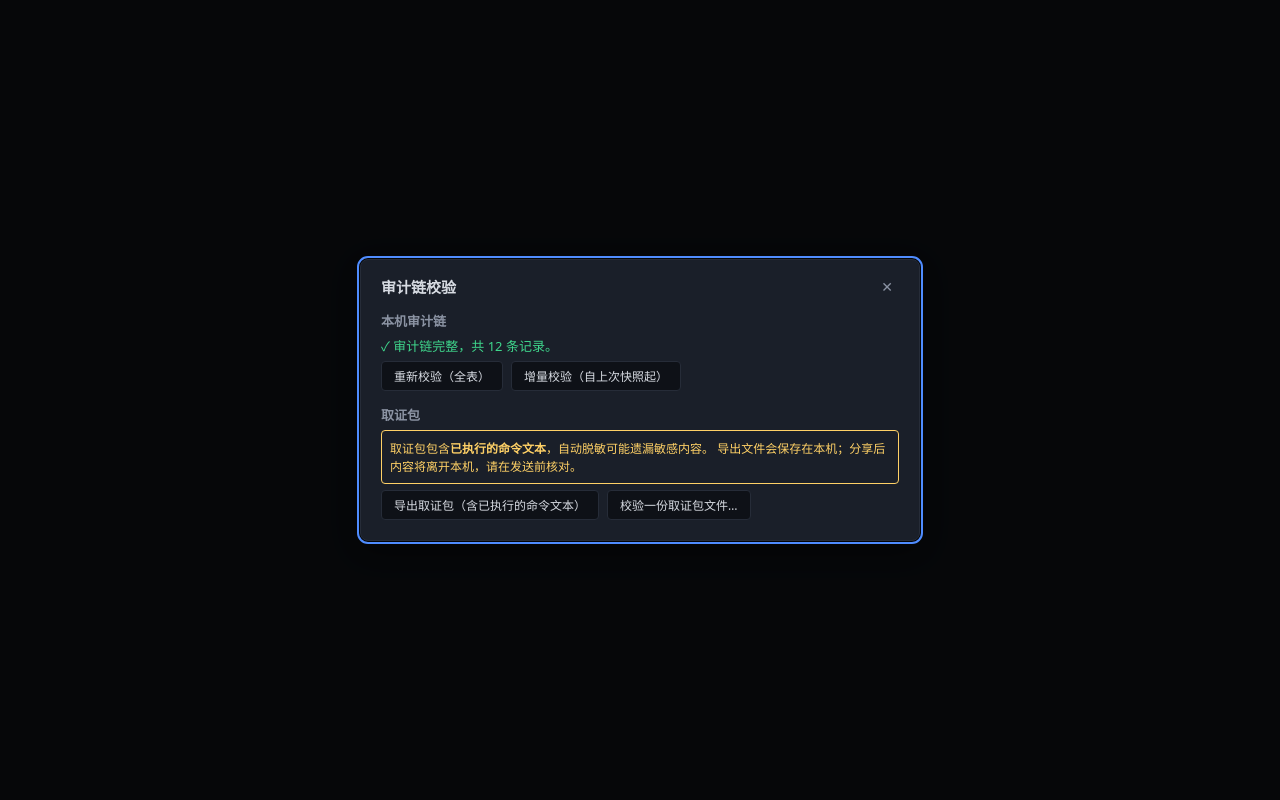
Test case: 增量校验 › 「通过但没查全」显示 ⚠ 而不是 ✓
Click the button with test id "audit-quick": (596,376) [511,361,681,391]
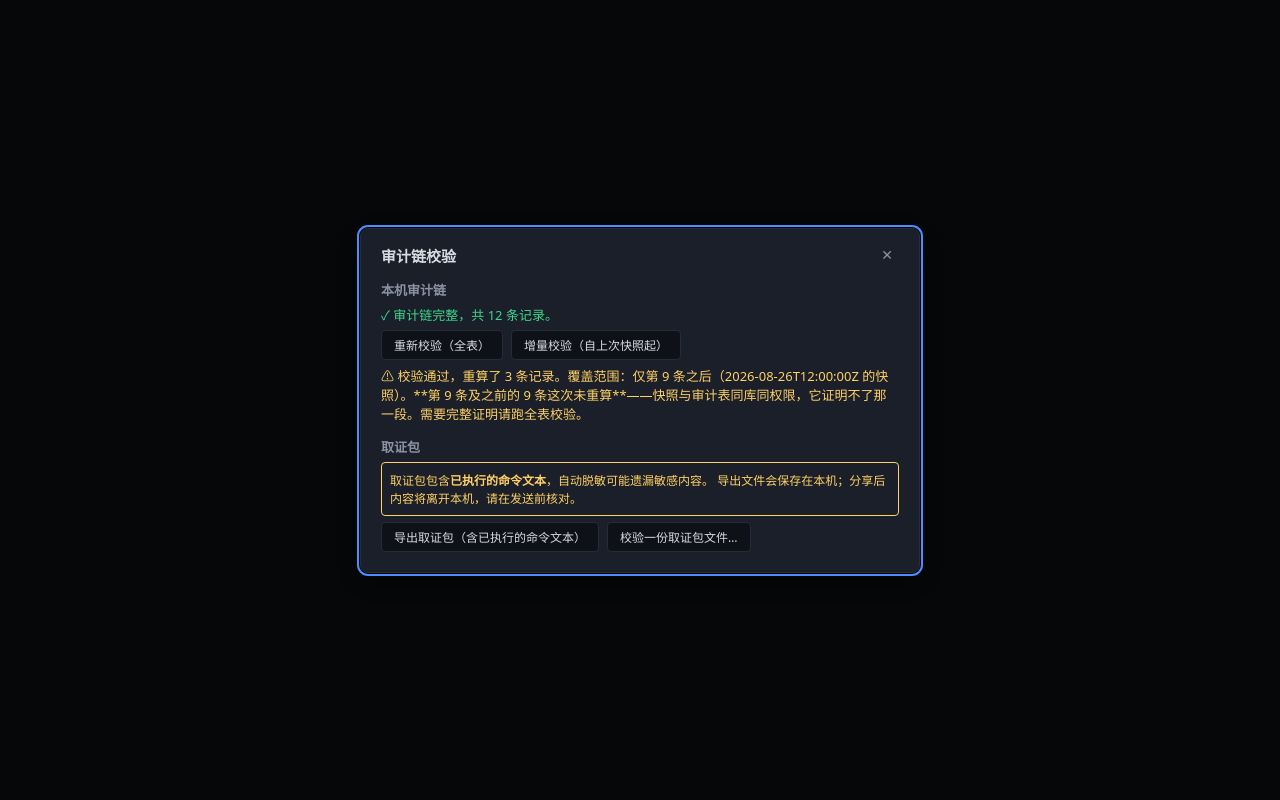
expect the text with test id "audit-quick-result" shows "⚠": met, box [381,366,888,422]
expect the text with test id "audit-quick-result" shows "未重算": met, box [381,366,899,422]
expect the text with test id "audit-quick-result" shows "全表校验": met, box [381,366,888,422]
